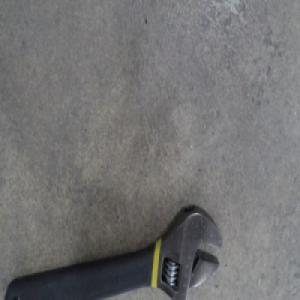AdjustableWrench: (5, 204, 224, 299)
